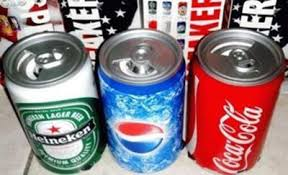metal: (1, 31, 107, 175), (188, 27, 288, 175), (97, 29, 188, 175)
